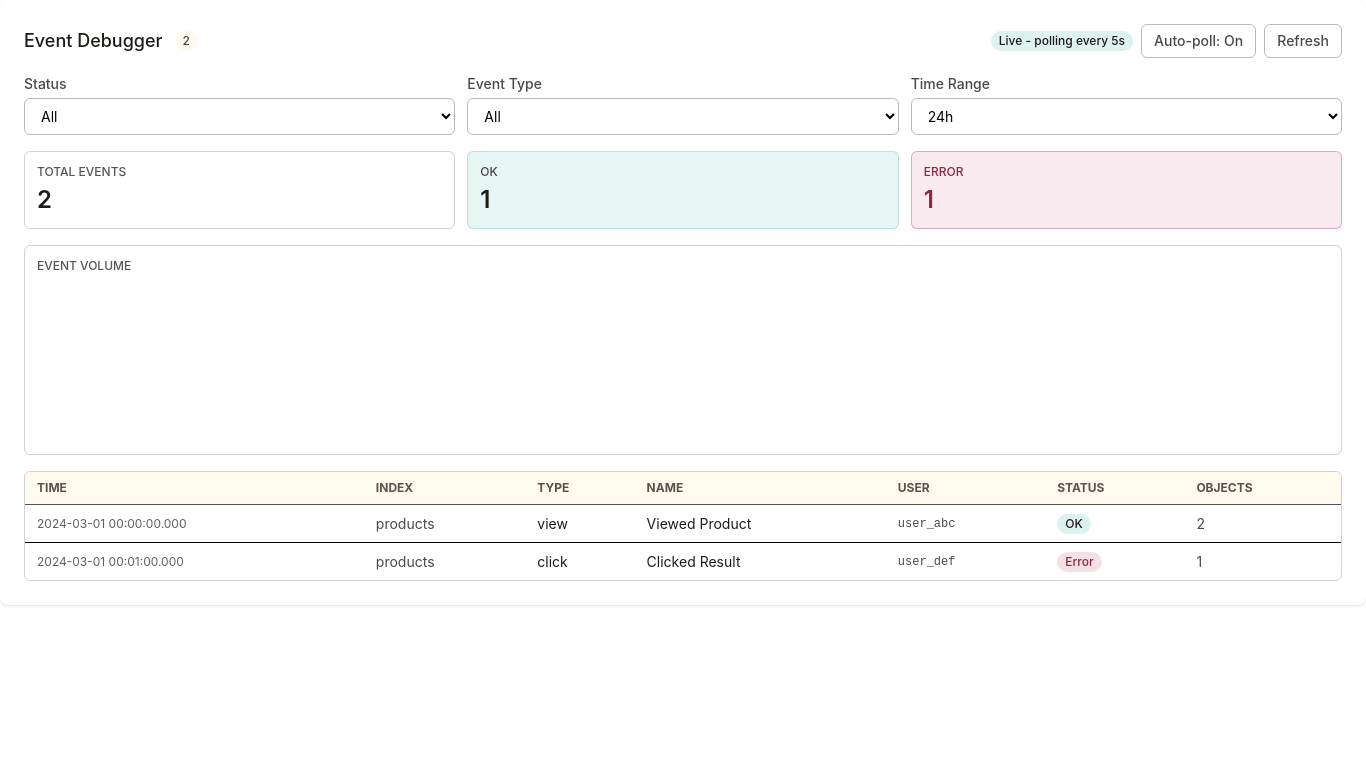
Test: EventsTab › event detail panel › event detail shows validation errors for error events
The width and height of the screenshot is (1366, 768).
Click the 3rd row at (683, 561), box top-left (25, 542), bottom-right (1341, 580)
(page scrolled)
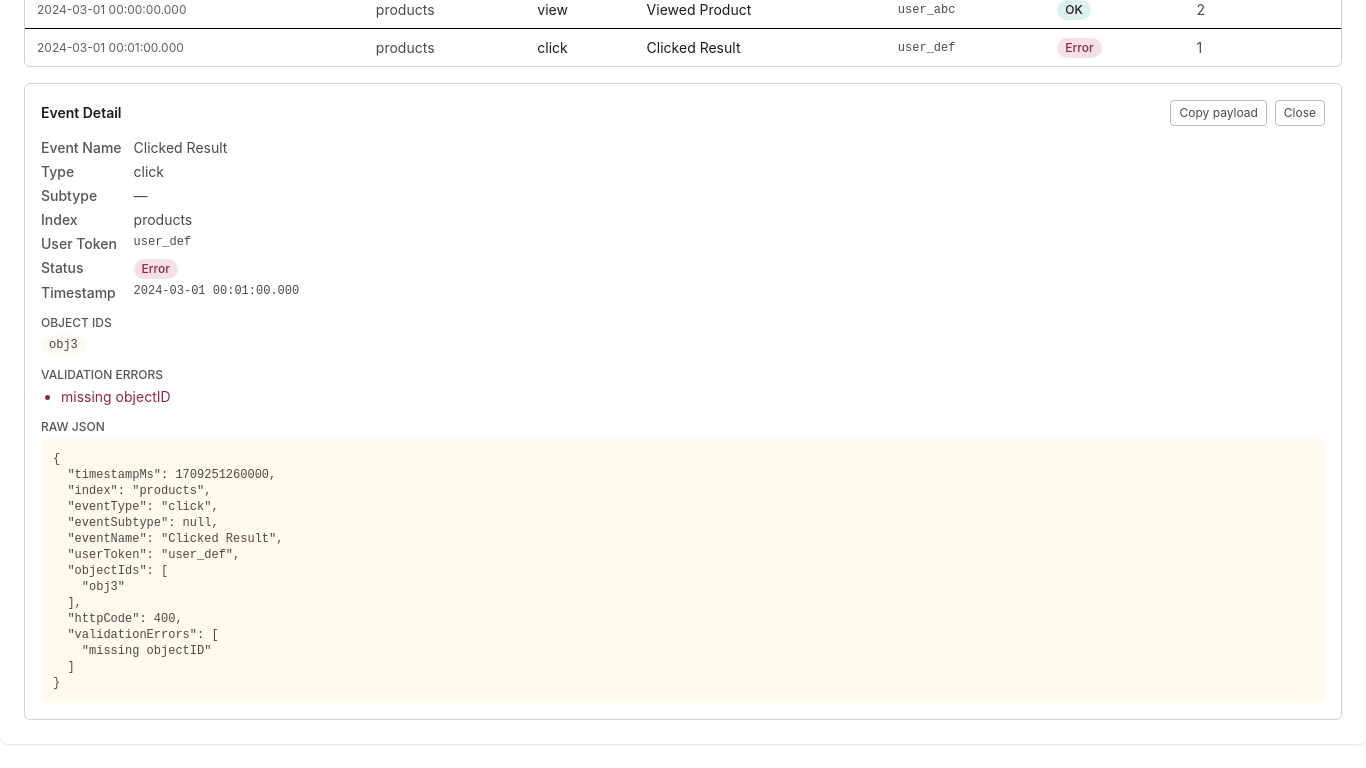
Expected: the list item "missing objectID" is shown, top-left (61, 388), bottom-right (171, 405)
